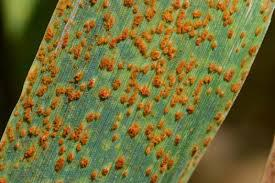Leaf Rust: (38, 16, 225, 155)
